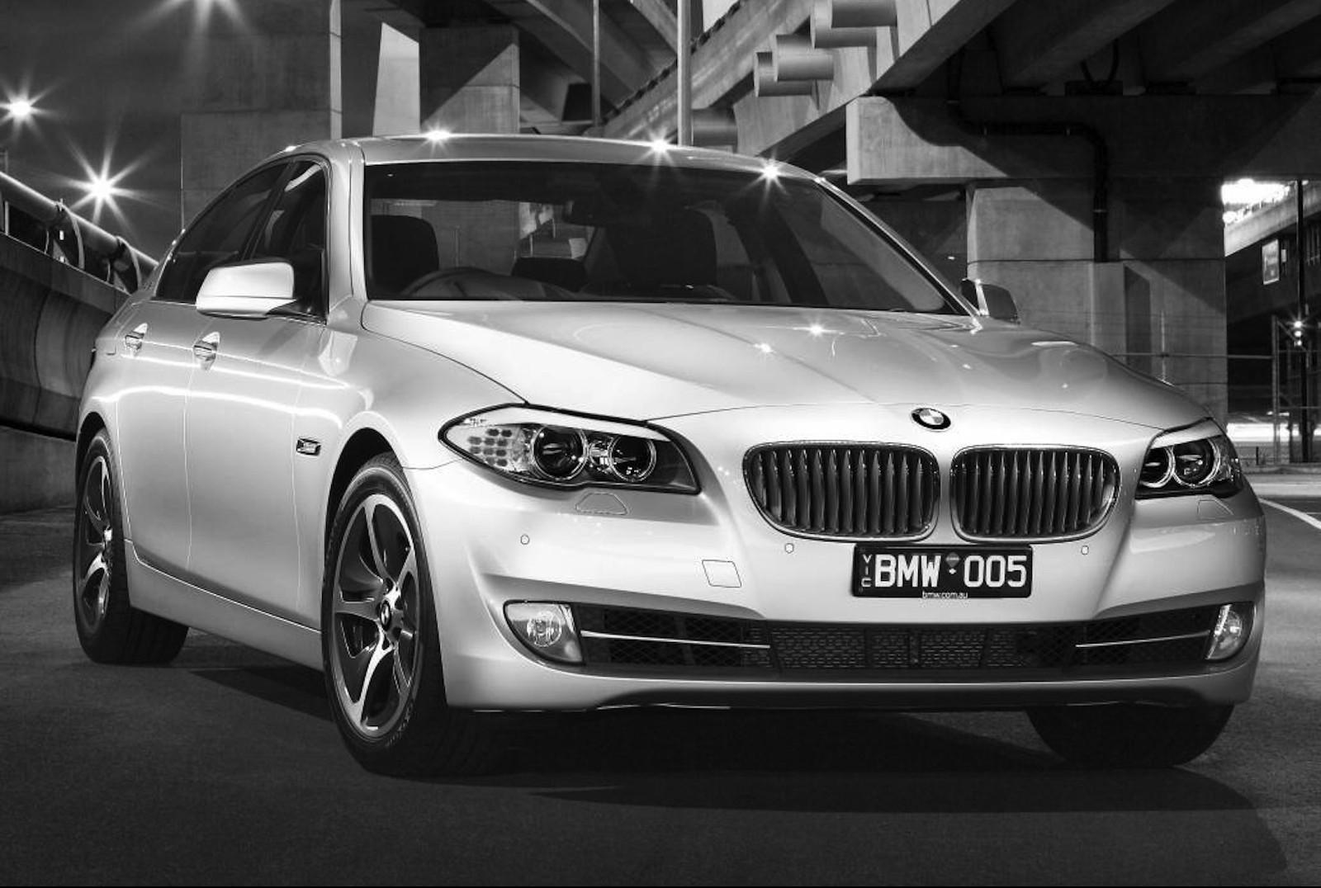car: (72, 132, 1269, 773)
